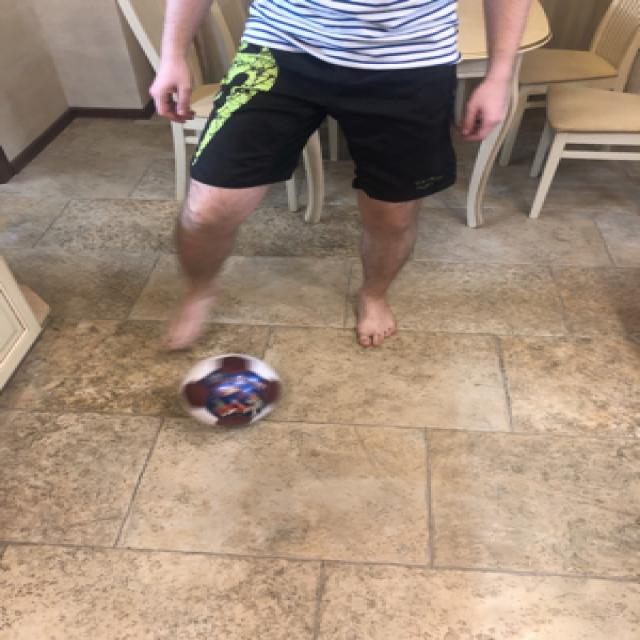soccer_ball: (170, 350, 284, 428)
